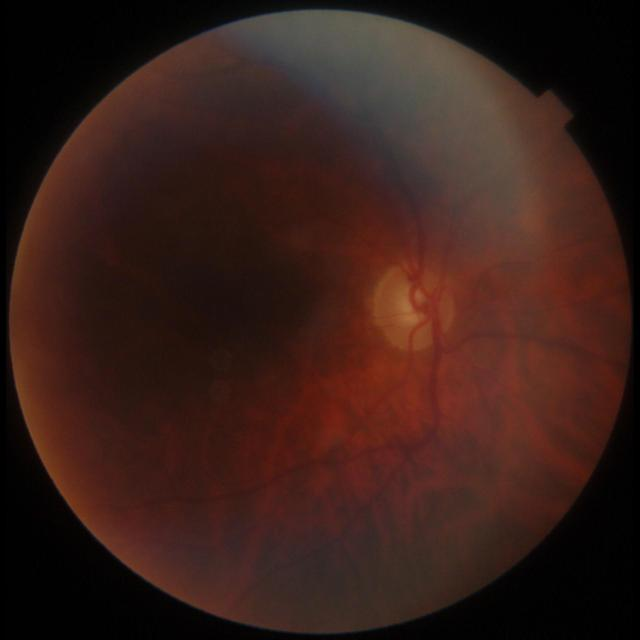OC: (401, 287, 432, 323)
OD: (373, 262, 455, 351)
